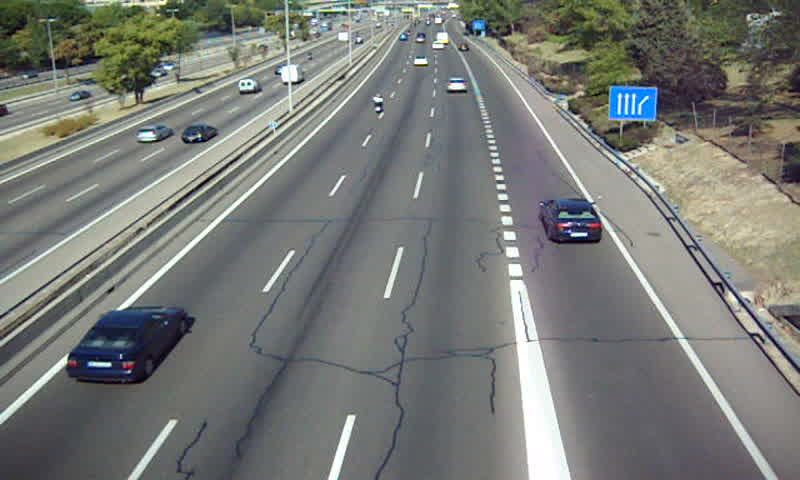car: (67, 306, 187, 383), (541, 198, 603, 242), (446, 77, 469, 93)
motorcycle: (370, 92, 385, 116)
